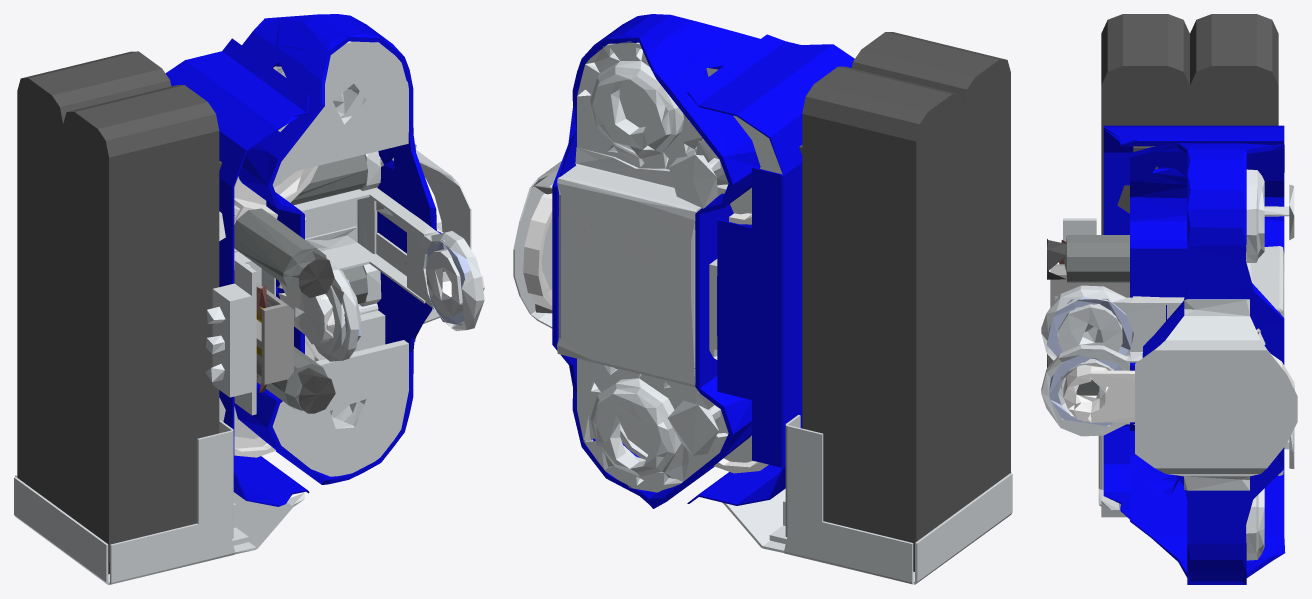
File: BODY_mesh.dae
3 views of the same model, side by side, from view 1: azimuth 30°, elevation 25°; view 2: azimuth 150°, elevation 25°; view 3: azimuth 270°, elevation 25° (orthographic). The views are drawn at different scales.
Visible parts, largest first — view 1: BODY (×25); view 2: BODY (×13); view 3: BODY (×20).
Boxes of the visible parts, bbox=[...] form: BODY (×25): bbox=[14, 14, 484, 584]; BODY (×13): bbox=[513, 14, 1012, 584]; BODY (×20): bbox=[1041, 14, 1297, 584].
Size of the model in its own units: 0.2599 by 0.2915 by 0.1561.
